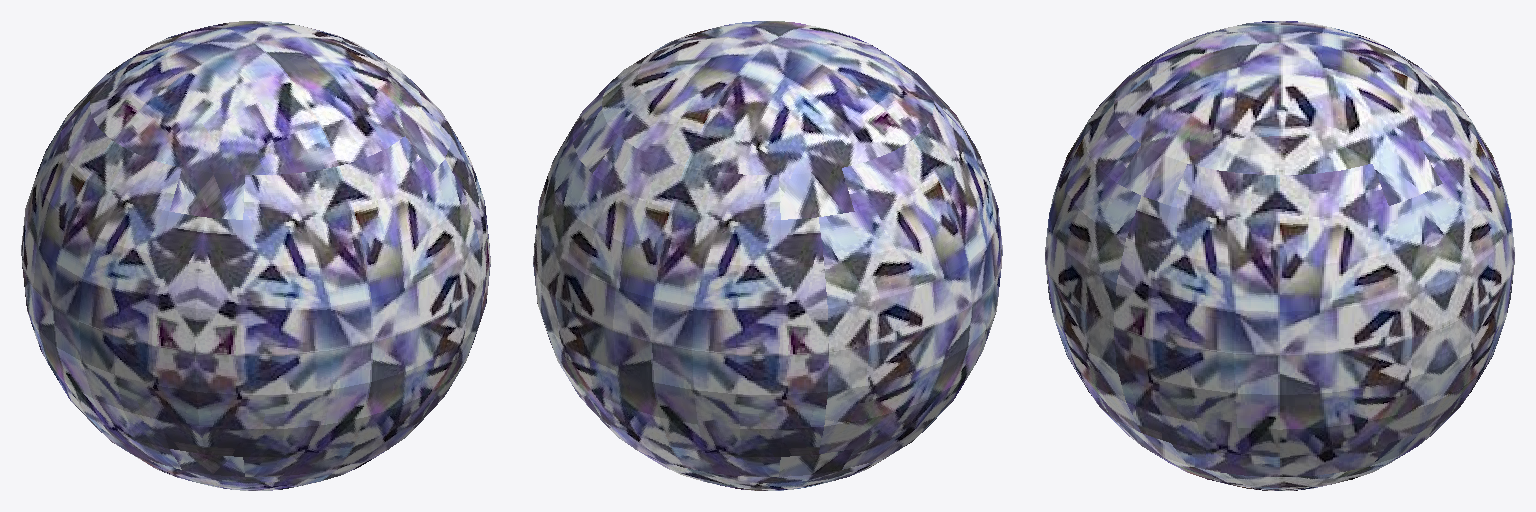
The picture shows the model from 3 angles: view 1: azimuth 30°, elevation 25°; view 2: azimuth 150°, elevation 25°; view 3: azimuth 270°, elevation 25°; orthographic projection.
Visible parts, largest first — view 1: diamond_particle; view 2: diamond_particle; view 3: diamond_particle.
Part boxes in pixels (bbox=[...]): diamond_particle: bbox=[21, 21, 490, 490]; diamond_particle: bbox=[533, 21, 1002, 490]; diamond_particle: bbox=[1045, 21, 1514, 490].
Bounding box in the file's own units: 2 × 2 × 2.
1 materials, 1 textured.